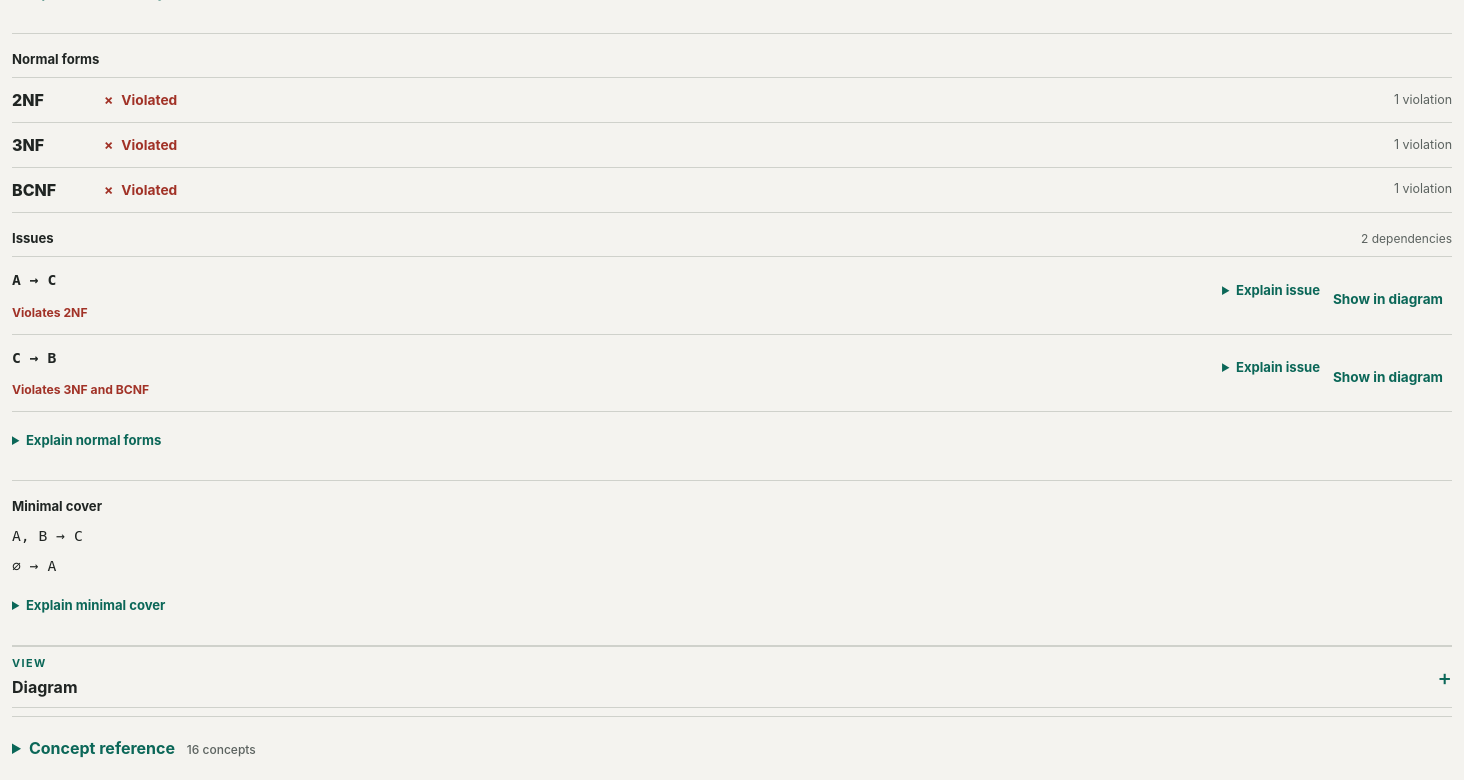
Test: schema visualization › supports keyboard candidate-key selection and labels key, prime and relation evidence
The width and height of the screenshot is (1464, 780).
(page scrolled)
Step 1. Click the button "View Diagram +" → [29, 663], box [12,647,1452,707]
(page scrolled)
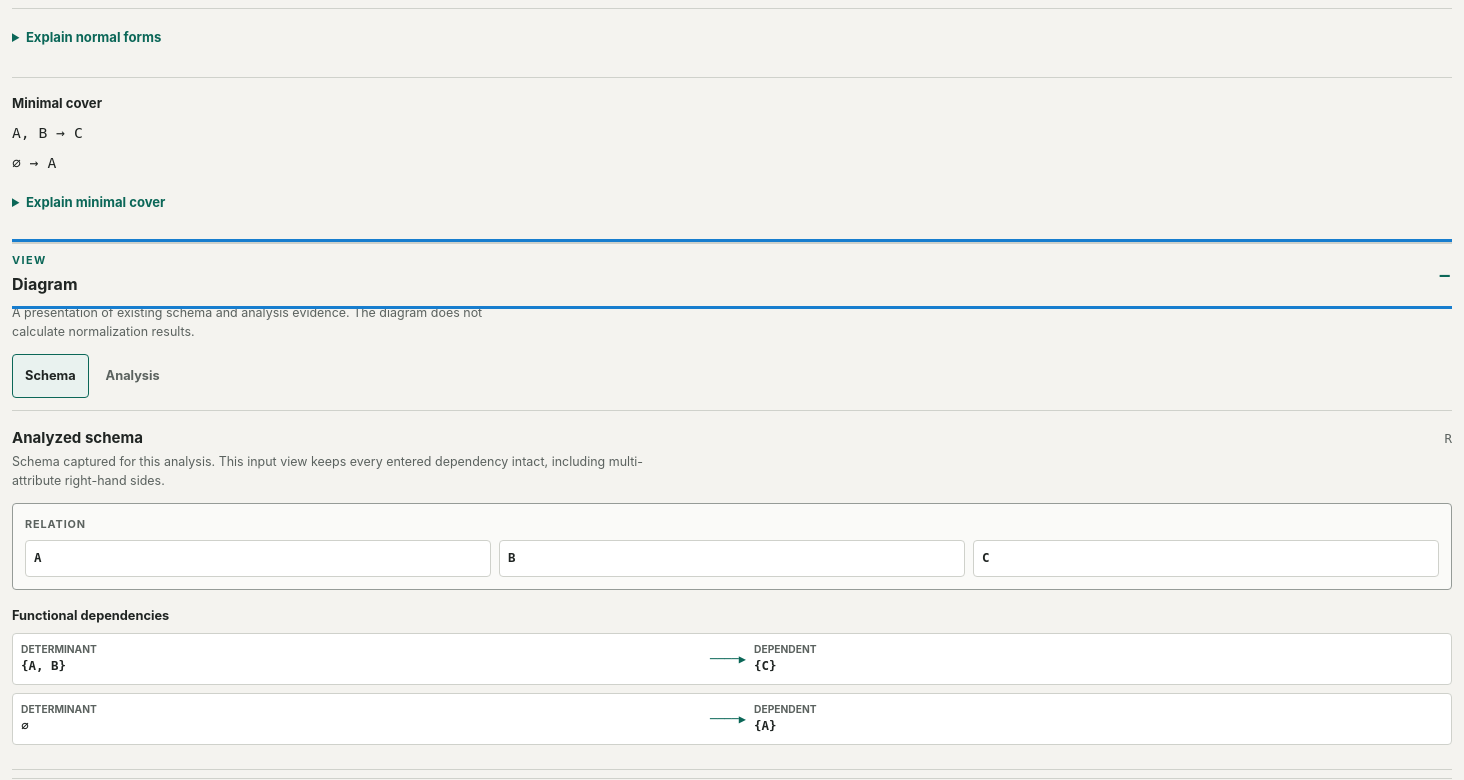
Step 2. Click the button "Analysis" → [133, 376], box [93,354,173,398]
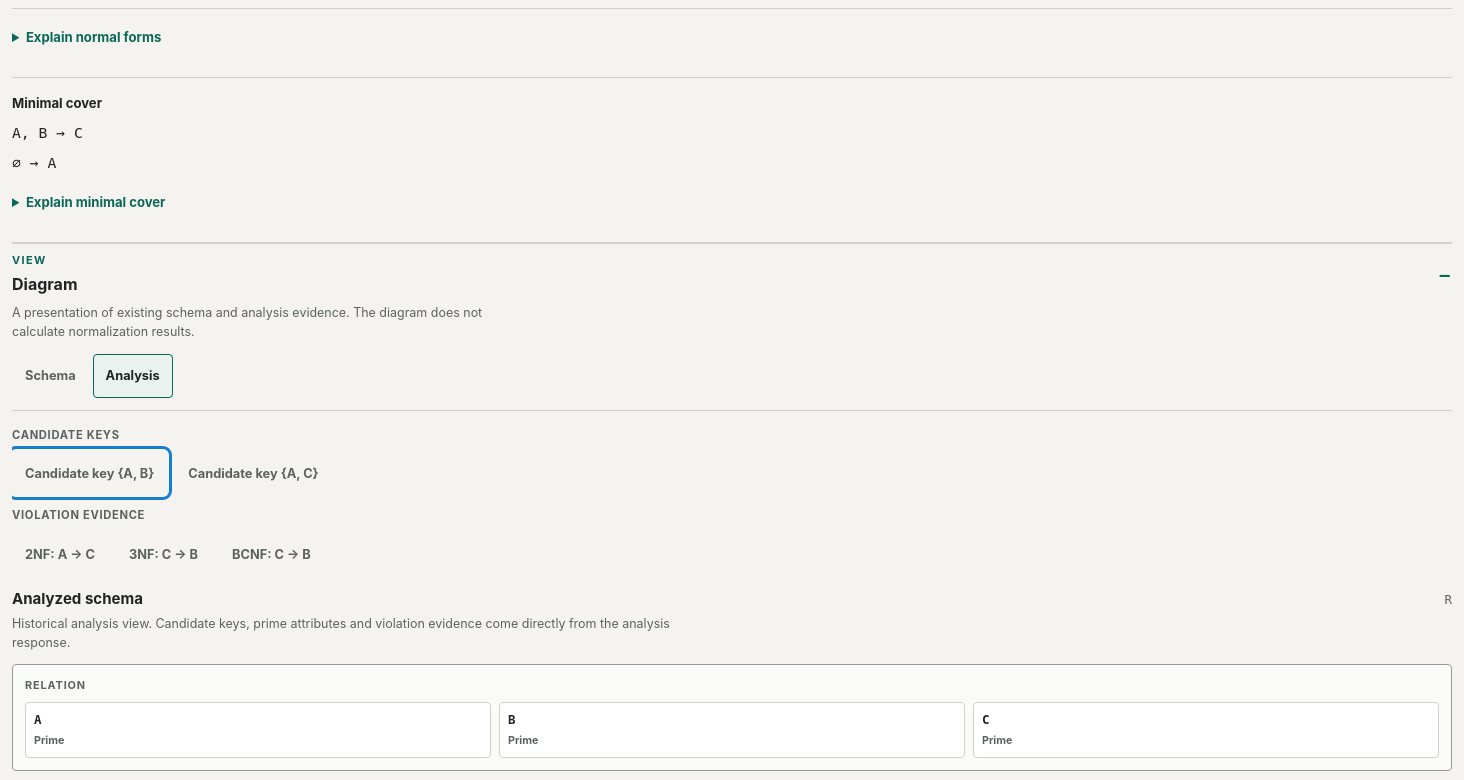
Step 3. Press Enter
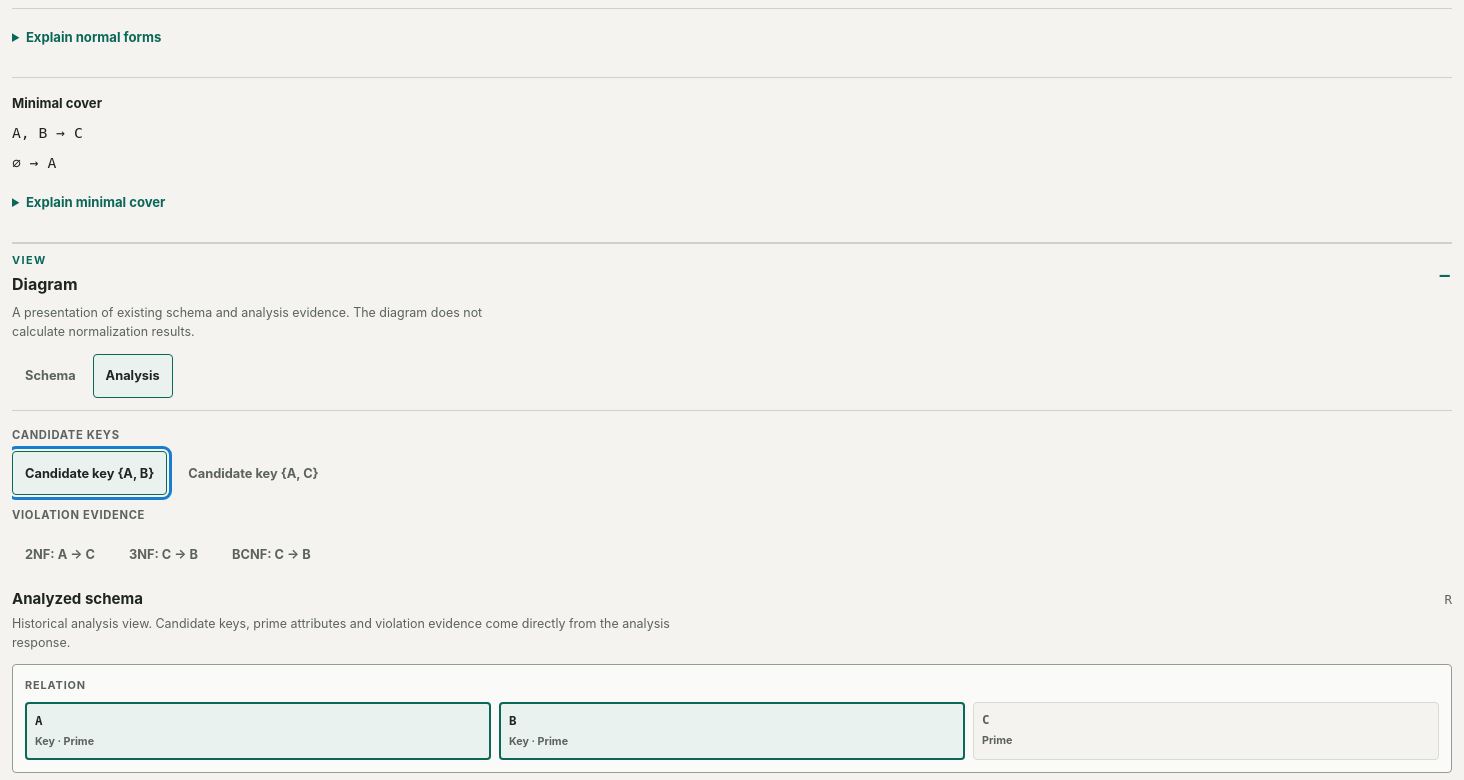
Expected: the element named "Relation R" is shown, [12,664,1452,773]
Expected: the 1st text "Key · Prime" is shown, [35,735,94,748]
